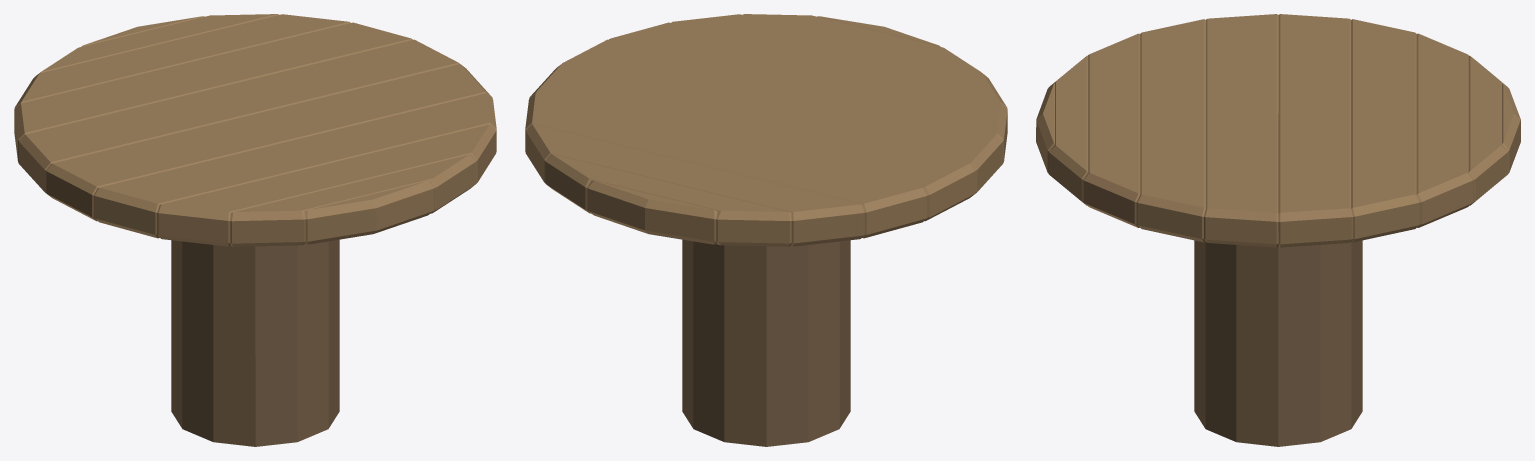
The model's file is SM_Table.fbx.
3 renders of one model, left to right at view 1: azimuth 30°, elevation 25°; view 2: azimuth 150°, elevation 25°; view 3: azimuth 270°, elevation 25°, orthographic.
Visible parts, largest first — view 1: SM_Table_LOD0; view 2: SM_Table_LOD0; view 3: SM_Table_LOD0.
Boxes of the visible parts, x1=… form: SM_Table_LOD0: x1=14, y1=14, x2=496, y2=446; SM_Table_LOD0: x1=525, y1=14, x2=1007, y2=446; SM_Table_LOD0: x1=1036, y1=14, x2=1520, y2=446.
Bounding box in the file's own units: 127 × 127 × 85.89.
Materials: 1 (1 with a texture image).
